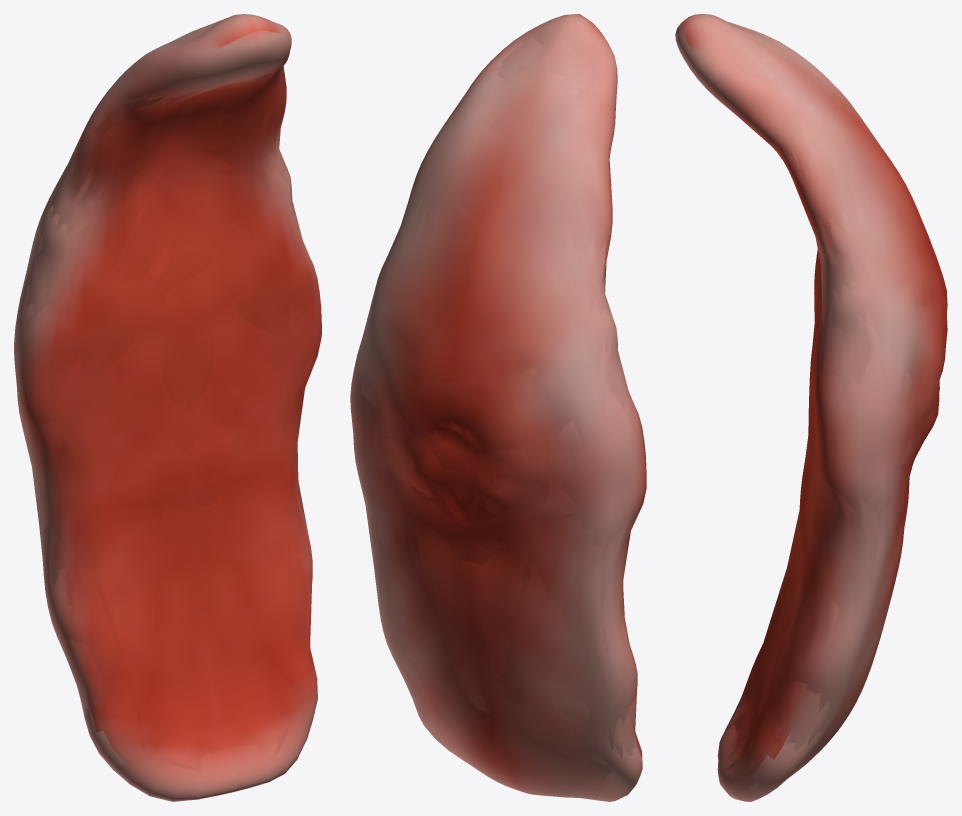
Rendered from Anus.fbx.
3 views of the same model, side by side, from view 1: azimuth 30°, elevation 25°; view 2: azimuth 150°, elevation 25°; view 3: azimuth 270°, elevation 25° (orthographic). The views are drawn at different scales.
Parts seen in each view (by area): view 1: Anus low, Anus; view 2: Anus, Anus low; view 3: Anus, Anus low.
Part boxes in pixels (box(x1,y1,x2,y2)): Anus low: box(21, 18, 320, 798); Anus: box(14, 14, 321, 801); Anus: box(350, 14, 646, 801); Anus low: box(353, 16, 642, 800); Anus: box(675, 14, 947, 801); Anus low: box(685, 17, 946, 795).
Bounding box in the file's own units: 7.74 × 19.68 × 6.4.
Materials: 1 (1 with a texture image).
